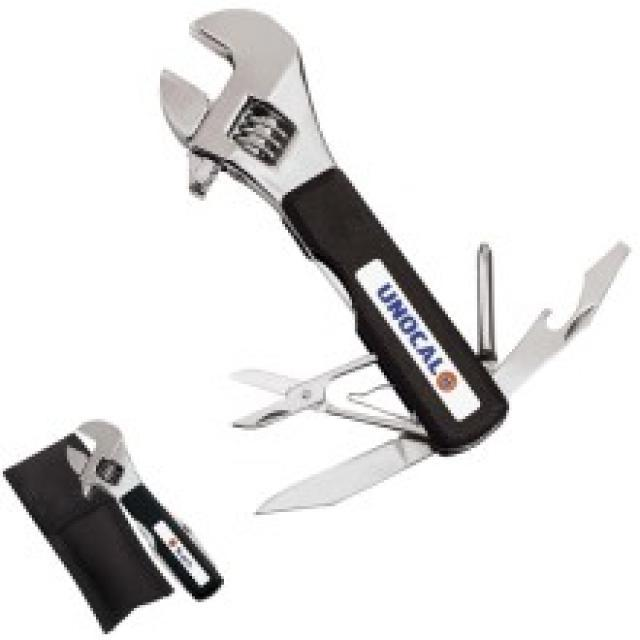wrench: (153, 2, 510, 456), (64, 412, 228, 606)
